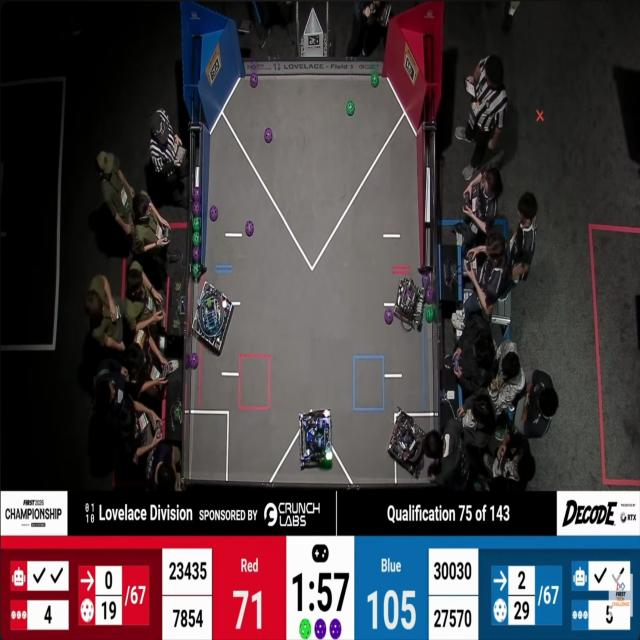artifact_green: (299, 619, 311, 639), (171, 406, 182, 423), (191, 263, 201, 279), (425, 306, 434, 323), (189, 353, 198, 368), (320, 458, 332, 469), (371, 72, 379, 87), (193, 217, 201, 231), (193, 231, 201, 245), (193, 247, 200, 262), (347, 101, 354, 116), (432, 304, 437, 319), (206, 298, 213, 308)
artifact_purple: (315, 619, 326, 639), (330, 619, 341, 639), (192, 200, 201, 217), (192, 246, 201, 262), (426, 287, 434, 304), (246, 221, 254, 237), (250, 73, 258, 88), (190, 353, 198, 368), (385, 309, 393, 324), (265, 128, 273, 143), (422, 274, 430, 289), (210, 206, 218, 221), (194, 187, 201, 201), (419, 456, 425, 470), (453, 357, 459, 371), (407, 291, 413, 299)
